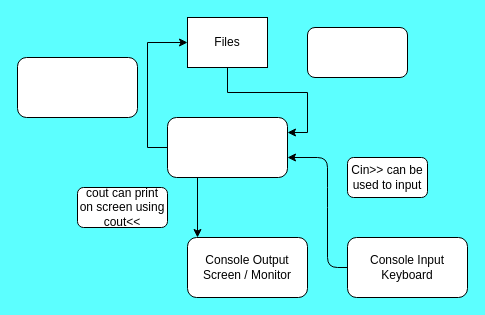
The diagram is 485 pixels wide and 315 high, and some of its shapes have lost their labels. Each missing label, with the centre of its shape:
"Can read the file" goes at point 357,52.
"Can write to the file" goes at point 77,87.
"Program" goes at point 227,147.
